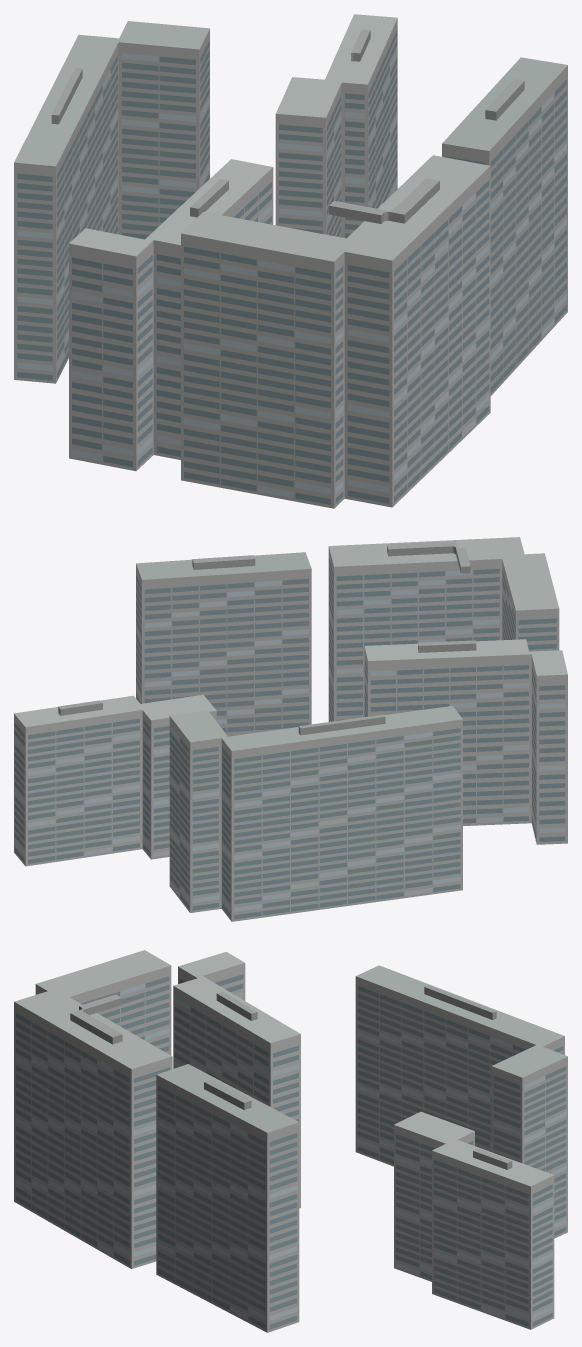
File: apt-a13986606.glb
The picture shows the model from 3 angles, top to bottom: view 1: azimuth 30°, elevation 25°; view 2: azimuth 150°, elevation 25°; view 3: azimuth 270°, elevation 25°; orthographic projection. The views are drawn at different scales.
Parts seen in each view (by area): view 1: apt-a13986606; view 2: apt-a13986606; view 3: apt-a13986606.
Boxes of the visible parts, x1,y1,x2,y2 form: apt-a13986606: (14, 14, 567, 508); apt-a13986606: (14, 537, 567, 921); apt-a13986606: (14, 950, 567, 1332).
Size of the model in its own units: 148 by 69 by 167.
